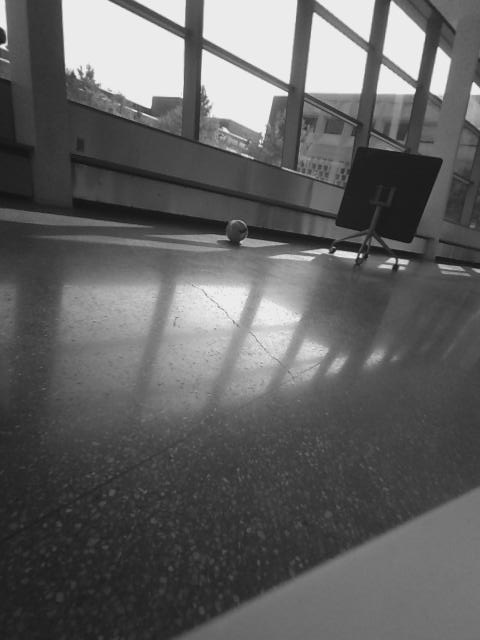ball: (224, 218, 250, 245)
